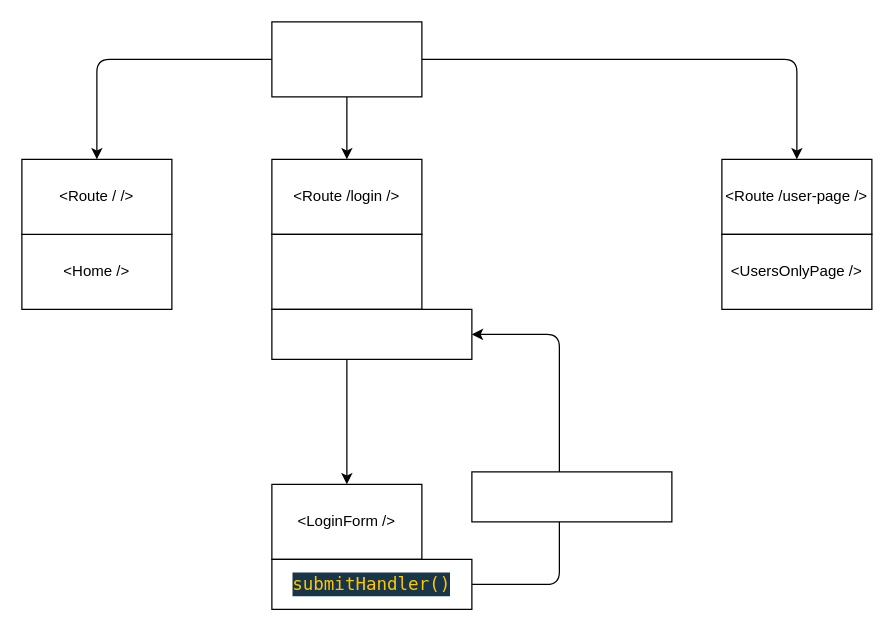
Image size: 894x631. Some labels were removed from this diagram. Here are the shapes that lost their labels. From the top down, the centre of each, then its label:
(346,59): <App />
(346,271): <LoginPage />
(371,333): loginHandler()
(571,496): loginObj {}
